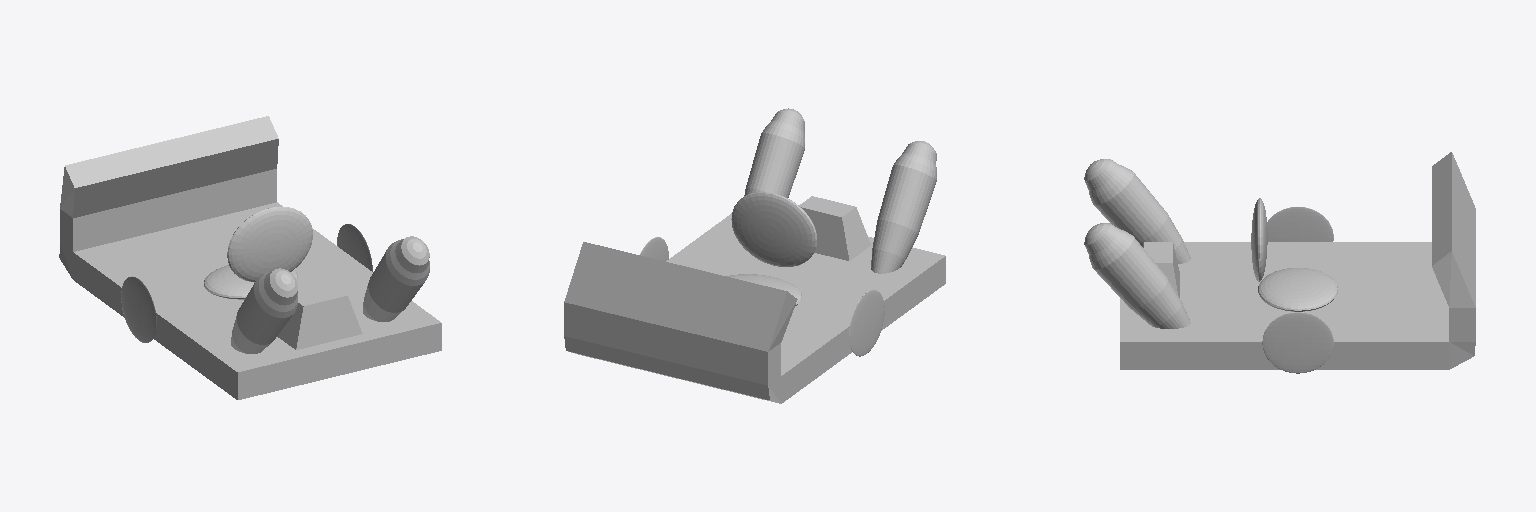
The model's file is Kart.obj.
3 views of the same model, side by side, from view 1: azimuth 30°, elevation 25°; view 2: azimuth 150°, elevation 25°; view 3: azimuth 270°, elevation 25° (orthographic).
Parts seen in each view (by area): view 1: Cube, Cube.002, Sphere.001, Sphere, Sphere.003, Cube.001, Sphere.002; view 2: Cube, Sphere, Cube.002, Sphere.001, Sphere.003, Cube.001; view 3: Cube, Sphere.001, Sphere, Sphere.002, Cube.001, Sphere.003, Cube.002.
Part boxes in pixels (bbox=[...]): Cube: bbox=[59, 116, 441, 399]; Cube.002: bbox=[227, 207, 312, 282]; Sphere.001: bbox=[363, 236, 429, 321]; Sphere: bbox=[231, 268, 297, 353]; Sphere.003: bbox=[121, 276, 156, 342]; Cube.001: bbox=[204, 265, 297, 299]; Sphere.002: bbox=[337, 224, 372, 271]; Cube: bbox=[564, 196, 945, 403]; Sphere: bbox=[871, 141, 936, 273]; Cube.002: bbox=[731, 192, 816, 266]; Sphere.001: bbox=[744, 108, 804, 197]; Sphere.003: bbox=[849, 290, 884, 356]; Cube.001: bbox=[727, 274, 801, 305]; Cube: bbox=[1120, 152, 1475, 369]; Sphere.001: bbox=[1084, 223, 1190, 328]; Sphere: bbox=[1084, 159, 1190, 263]; Sphere.002: bbox=[1262, 312, 1333, 373]; Cube.001: bbox=[1258, 268, 1337, 311]; Sphere.003: bbox=[1267, 207, 1333, 241]; Cube.002: bbox=[1251, 198, 1267, 281].
Bounding box in the file's own units: 5.09 × 2.89 × 7.9.